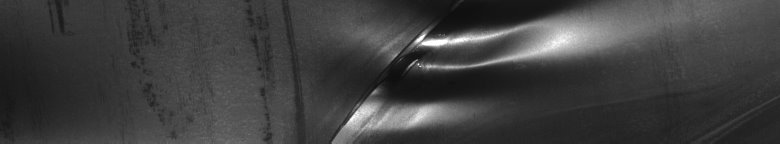ke: (333, 8, 565, 136)
